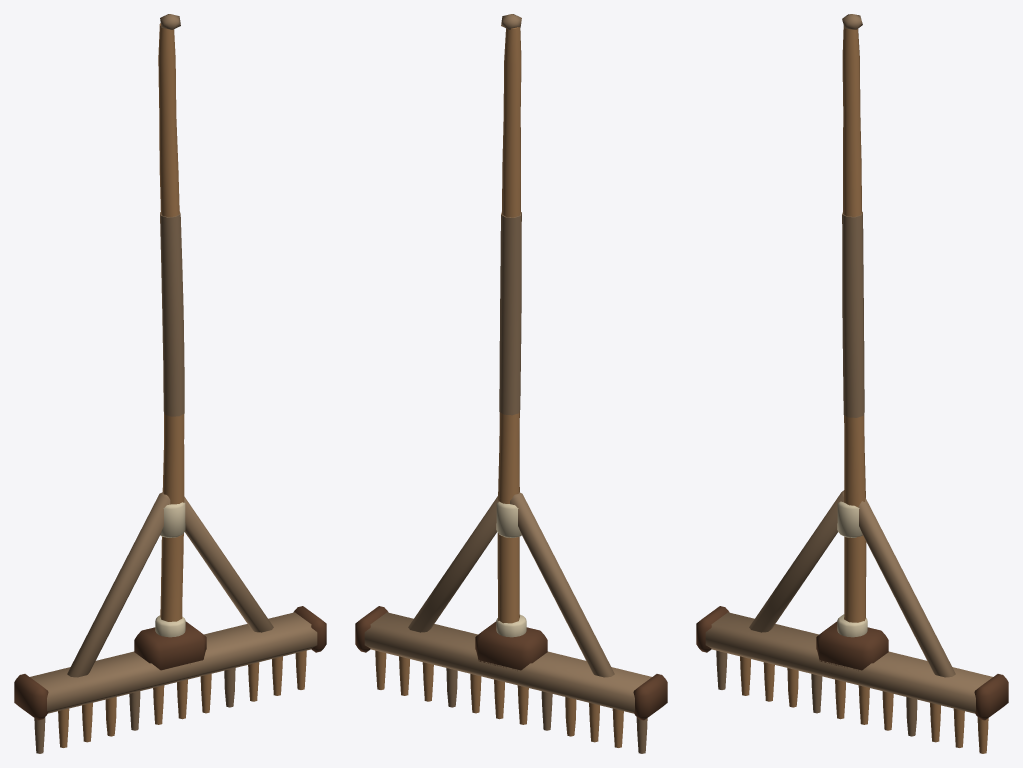
Rendered from rake.glb.
3 views of the same model, side by side, from view 1: azimuth 30°, elevation 25°; view 2: azimuth 150°, elevation 25°; view 3: azimuth 330°, elevation 25° (orthographic).
Parts seen in each view (by area): view 1: handle, head_bar, teeth, brace_-1, brace_1, head_block, head_end_-1, binding, head_end_1; view 2: handle, head_bar, teeth, brace_-1, brace_1, head_block, head_end_-1, binding, head_end_1; view 3: handle, head_bar, teeth, brace_1, brace_-1, head_block, head_end_1, binding, head_end_-1.
Part boxes in pixels (x1,y1,x2,y2): handle: (158,14,184,621); head_bar: (30,612,317,713); teeth: (34,650,306,753); brace_-1: (67,492,170,677); brace_1: (184,496,273,632); head_block: (134,621,206,670); head_end_-1: (14,674,48,720); binding: (160,502,185,537); head_end_1: (293,606,326,652); handle: (497,14,521,623); head_bar: (364,612,651,713); teeth: (375,650,647,753); brace_-1: (510,492,614,677); brace_1: (408,496,498,632); head_block: (475,621,547,670); head_end_-1: (633,674,667,720); binding: (496,501,521,537); head_end_1: (355,606,388,652); handle: (842,14,866,622); head_bar: (705,612,992,713); teeth: (716,650,988,753); brace_1: (858,498,955,677); brace_-1: (749,490,844,632); head_block: (816,621,888,670); head_end_1: (974,674,1008,720); binding: (837,501,862,537); head_end_-1: (696,606,729,652).
Size of the model in its own units: 0.62 by 1.42 by 0.09.
